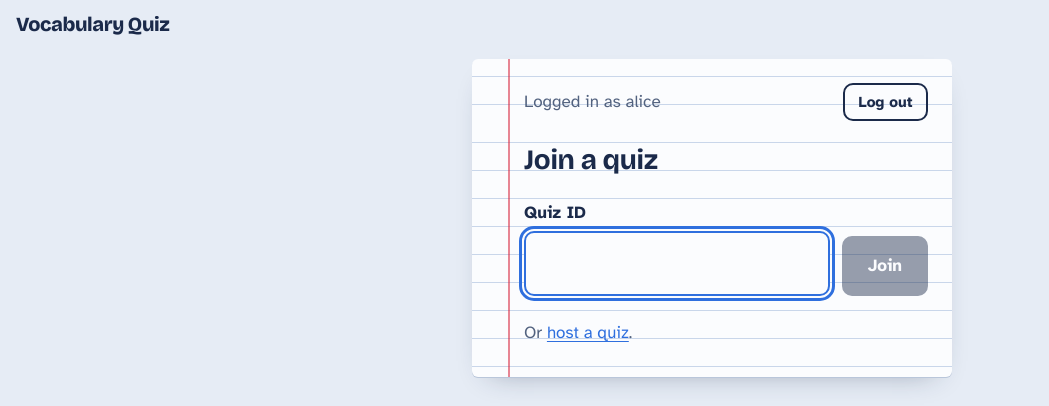
Scenario: Home › joins by quiz ID (case-insensitive) and opens the player view
The width and height of the screenshot is (1049, 406).
Step 1. Type " abc234 " into the field labelled "Quiz ID" → point(677, 263), box x1=524 y1=231 x2=830 y2=296
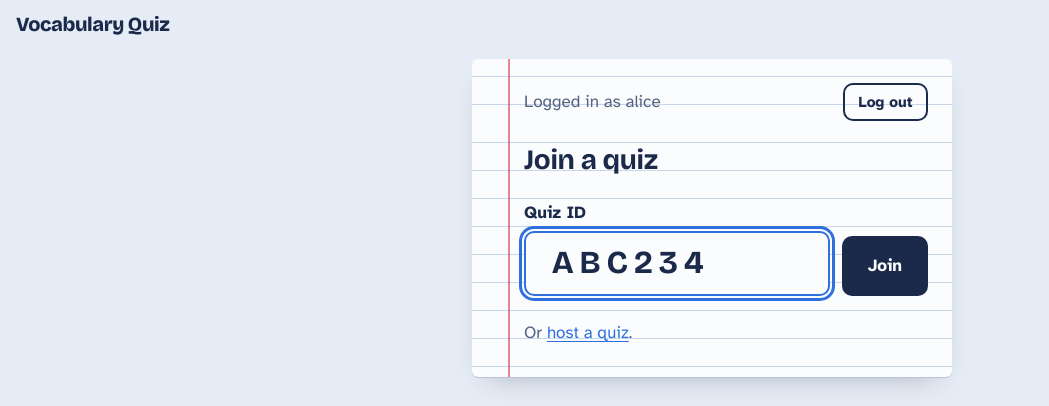
Step 2. Click the button "Join" → point(885, 266), box x1=842 y1=236 x2=928 y2=296
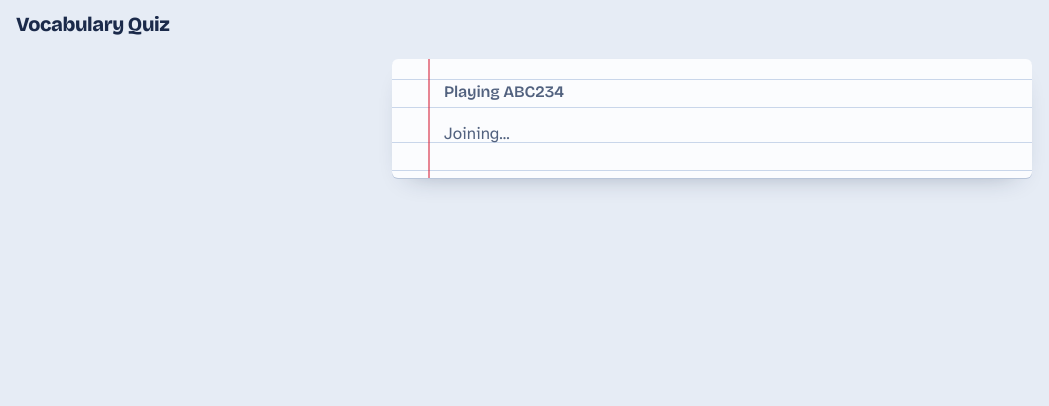
Now the heading "Playing ABC234" is shown, box x1=444 y1=82 x2=564 y2=101
